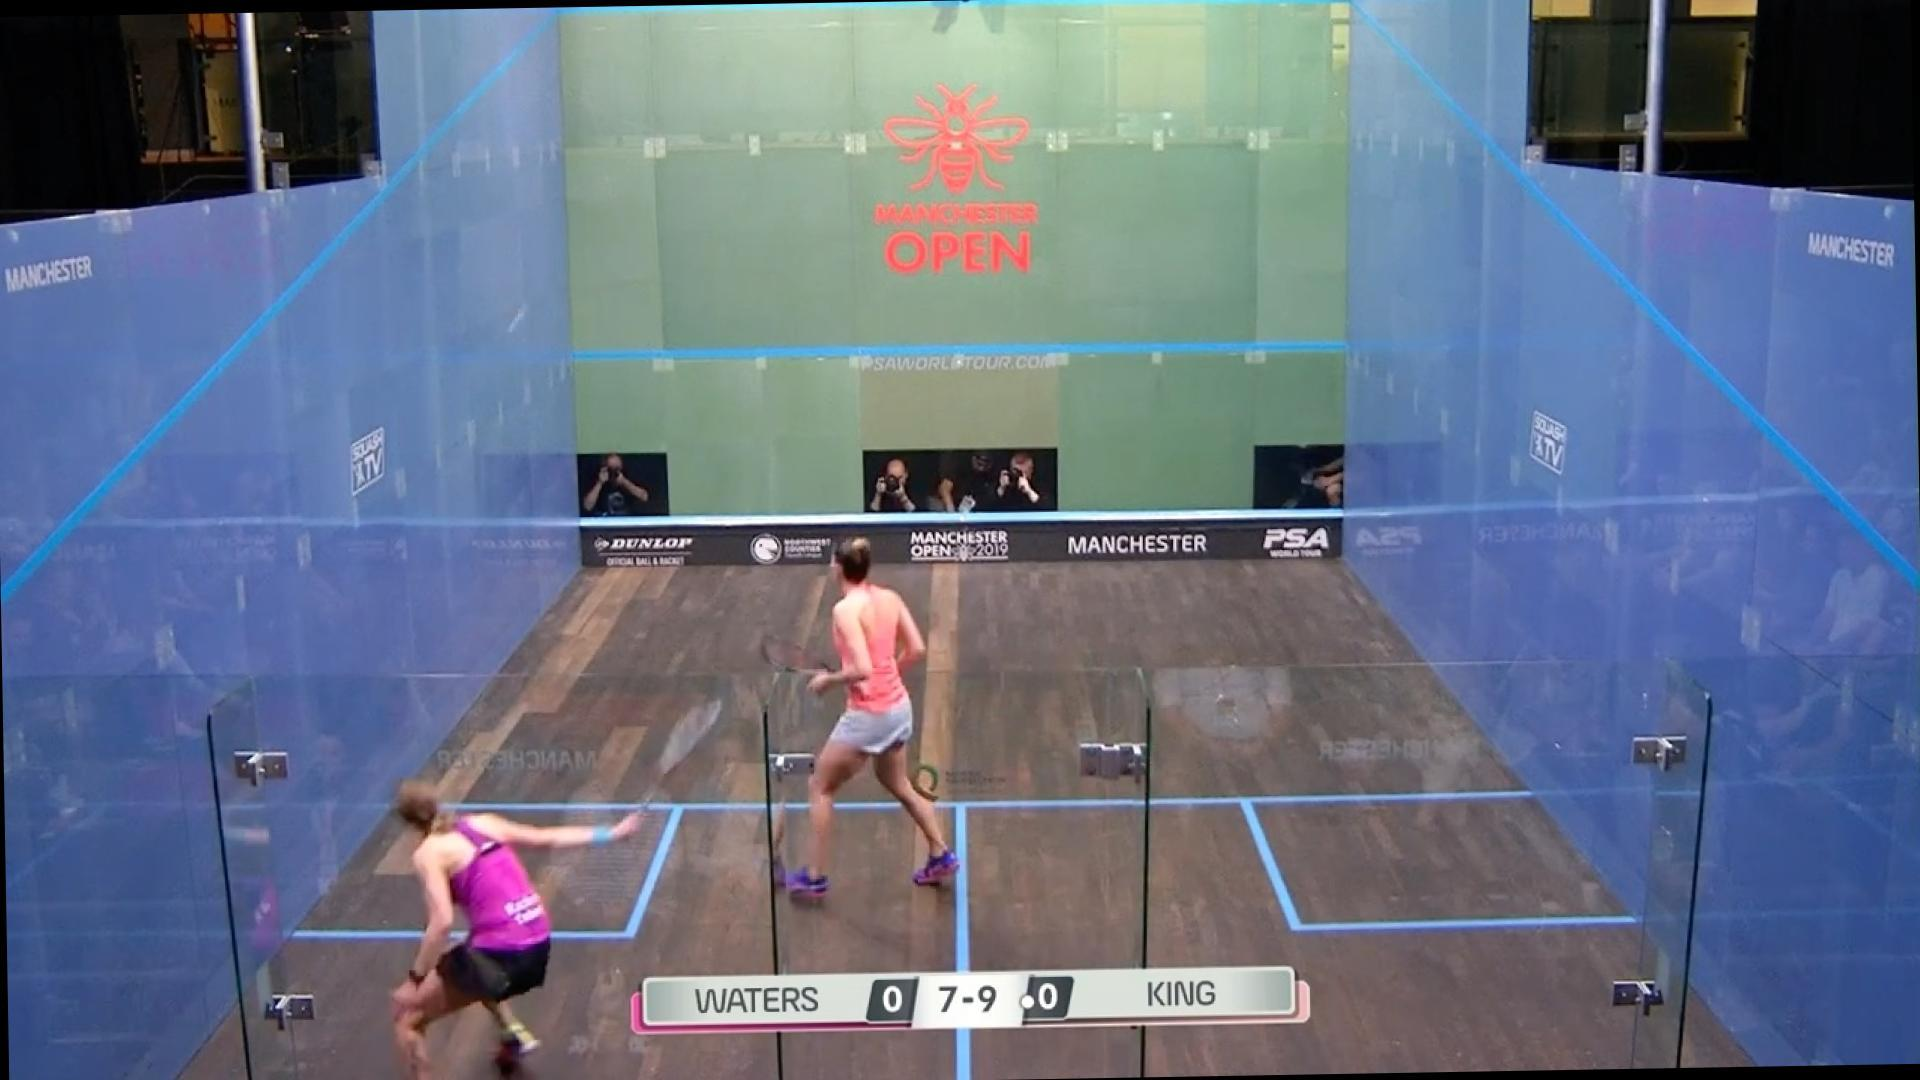Squash-Ball: (493, 290, 554, 364)
